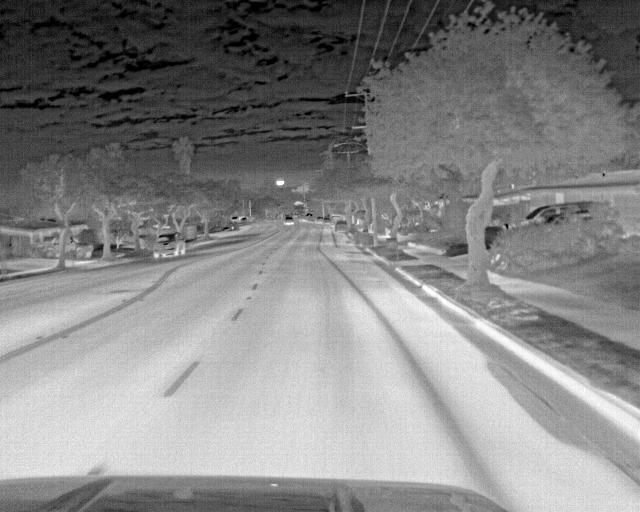car: (500, 200, 614, 234), (543, 211, 626, 237), (150, 230, 186, 260), (334, 219, 351, 232), (283, 213, 297, 227)
